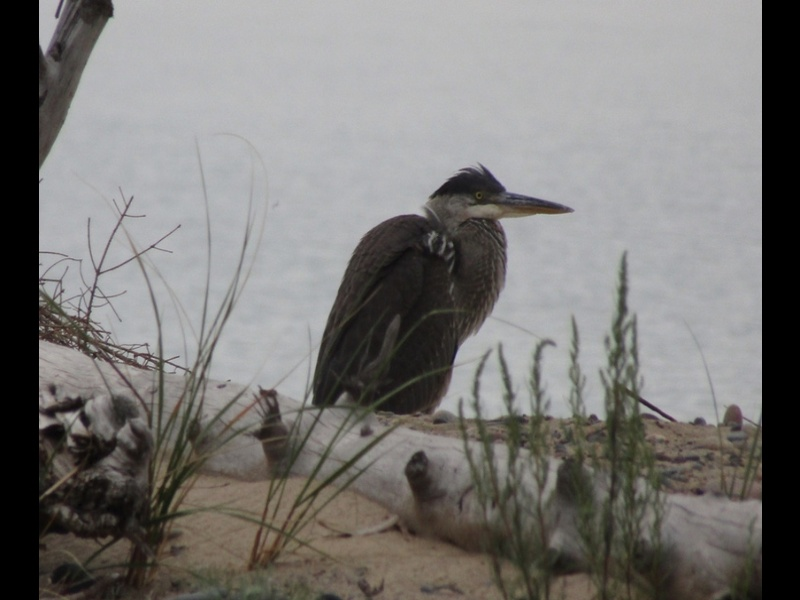heron: (303, 161, 580, 415)
